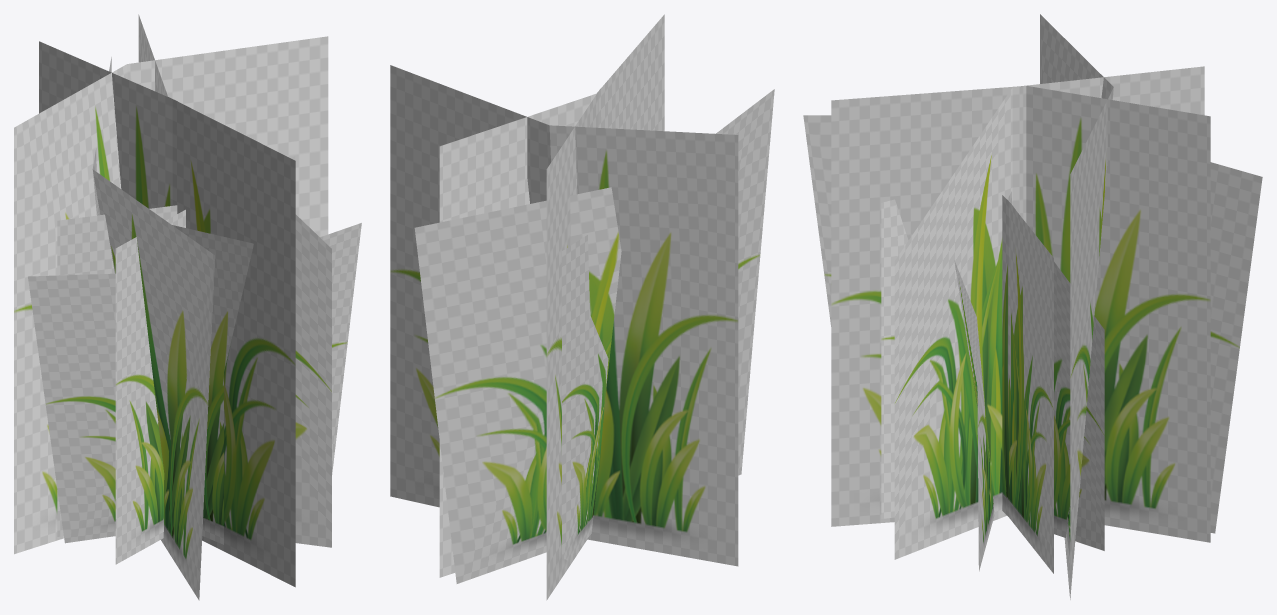
File: Grass.fbx
3 views of the same model, side by side, from view 1: azimuth 30°, elevation 25°; view 2: azimuth 150°, elevation 25°; view 3: azimuth 270°, elevation 25° (orthographic).
Parts seen in each view (by area): view 1: Plane.003; view 2: Plane.003; view 3: Plane.003.
Boxes of the visible parts, left/top/right/bottom form: Plane.003: left=14, top=14, right=361, bottom=600; Plane.003: left=390, top=14, right=774, bottom=600; Plane.003: left=803, top=14, right=1262, bottom=599.
Size of the model in its own units: 1.99 by 2.47 by 2.41.
Materials: 1 (1 with a texture image).
